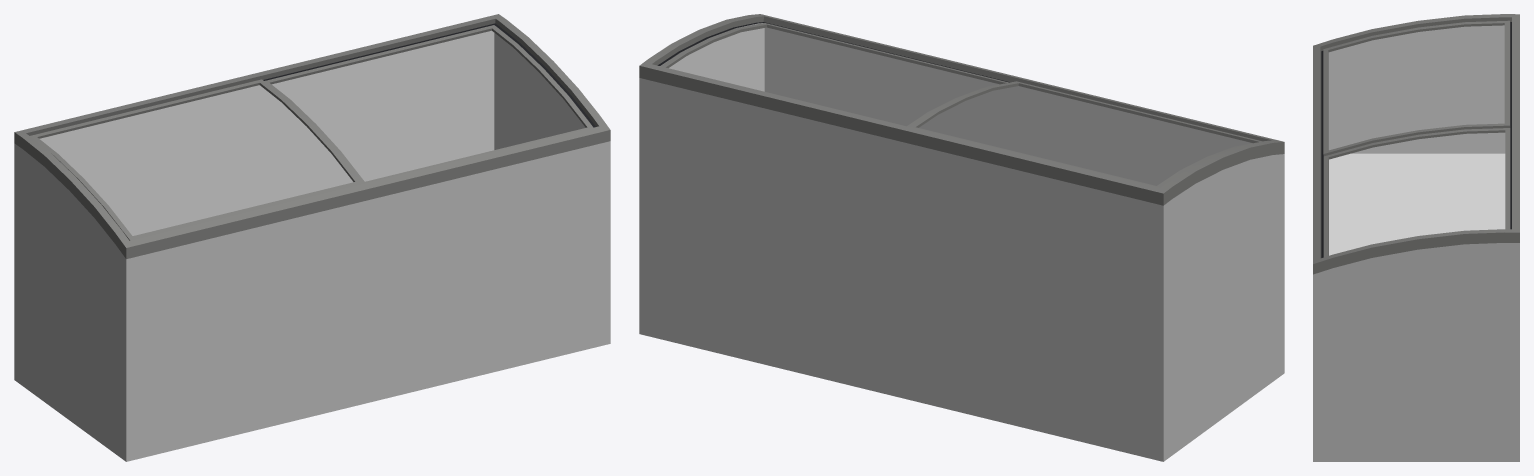
Rendered from Shelves_Freezer_1.fbx.
3 views of the same model, side by side, from view 1: azimuth 30°, elevation 25°; view 2: azimuth 150°, elevation 25°; view 3: azimuth 270°, elevation 25° (orthographic). The views are drawn at different scales.
Parts seen in each view (by area): view 1: Shelves_Freezer_1; view 2: Shelves_Freezer_1; view 3: Shelves_Freezer_1.
Part boxes in pixels (x1,y1,x2,y2): Shelves_Freezer_1: (14, 14, 610, 461); Shelves_Freezer_1: (639, 14, 1284, 461); Shelves_Freezer_1: (1313, 14, 1519, 461).
Size of the model in its own units: 200 by 97.96 by 80.
